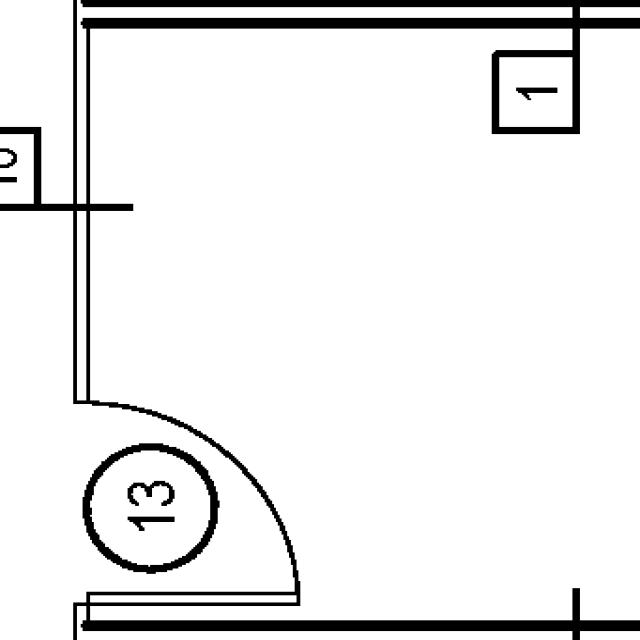Doors: (66, 395, 308, 611)
